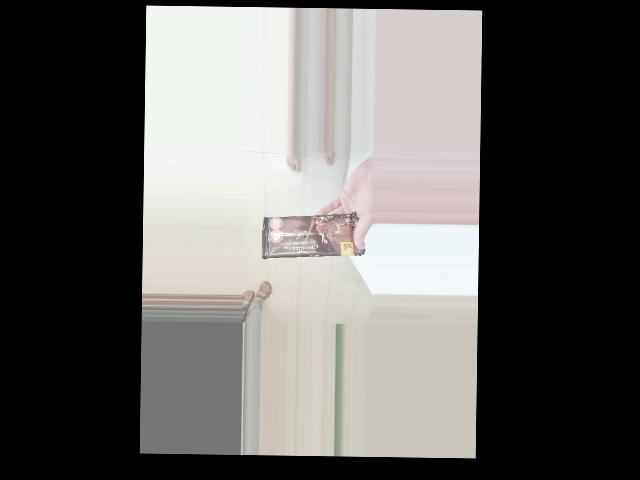chocolate: (255, 197, 315, 309)
